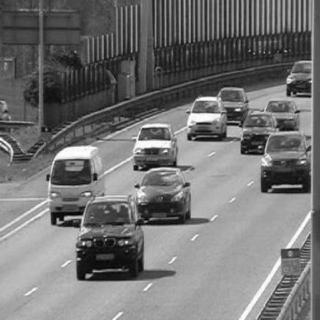other: (56, 141, 96, 163), (192, 110, 218, 123), (135, 140, 169, 148)
